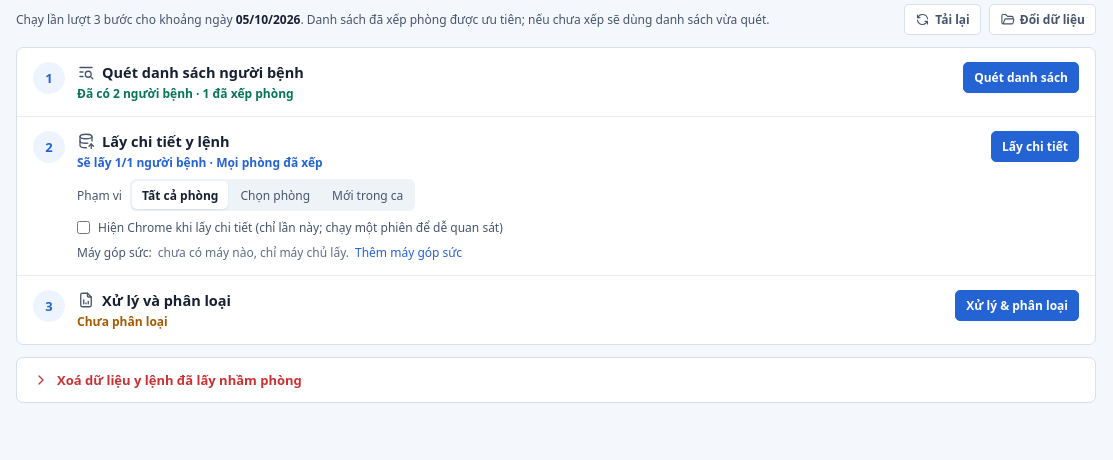
Test: Lấy dữ liệu: chọn phòng › phòng vừa lưu ở Xếp phòng hiện ngay; phòng đang chọn được giữ khi cập nhật
Click the radio button labelled "Chọn phòng": (275, 195) 230,181 -> 320,209
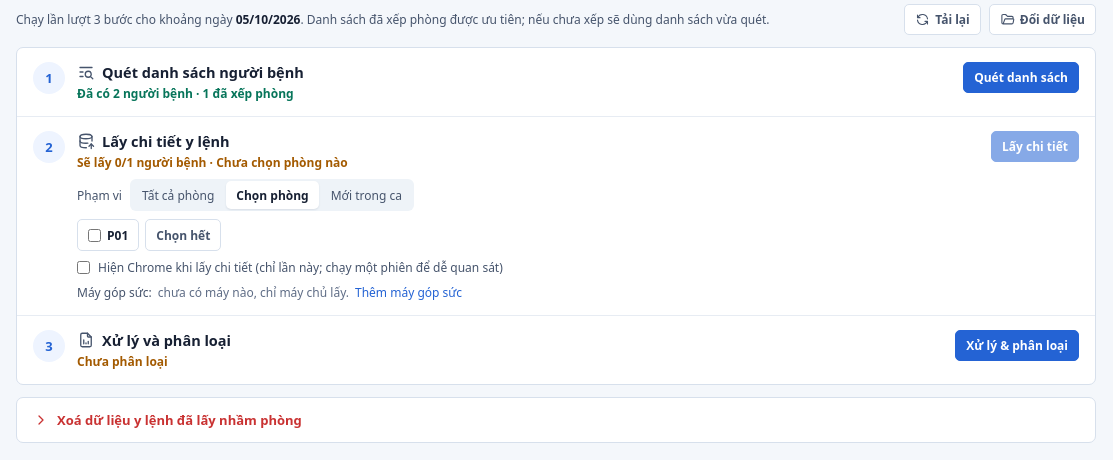
Click the checkbox labelled "P01": (94, 235) 88,228 -> 101,242
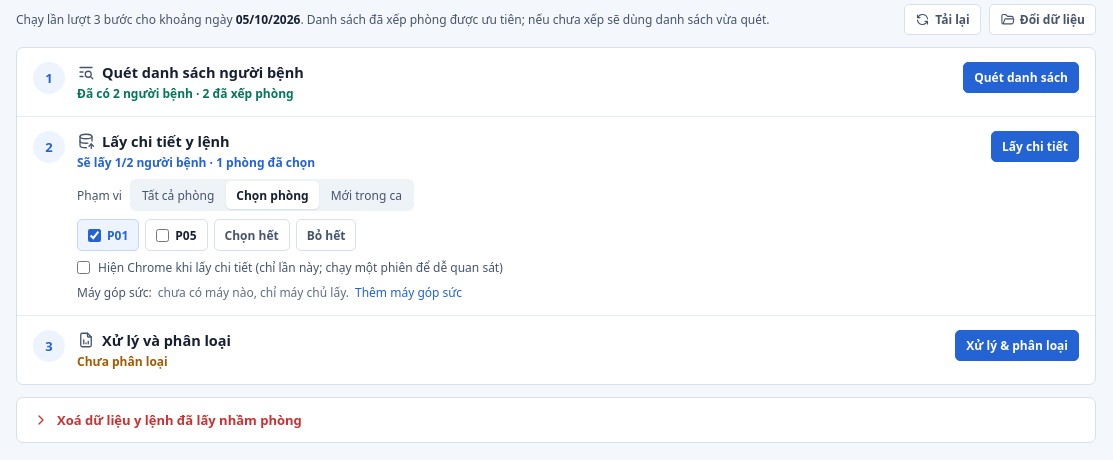
Check: the text "1 phòng đã chọn" is shown, box 77,154 -> 315,171
